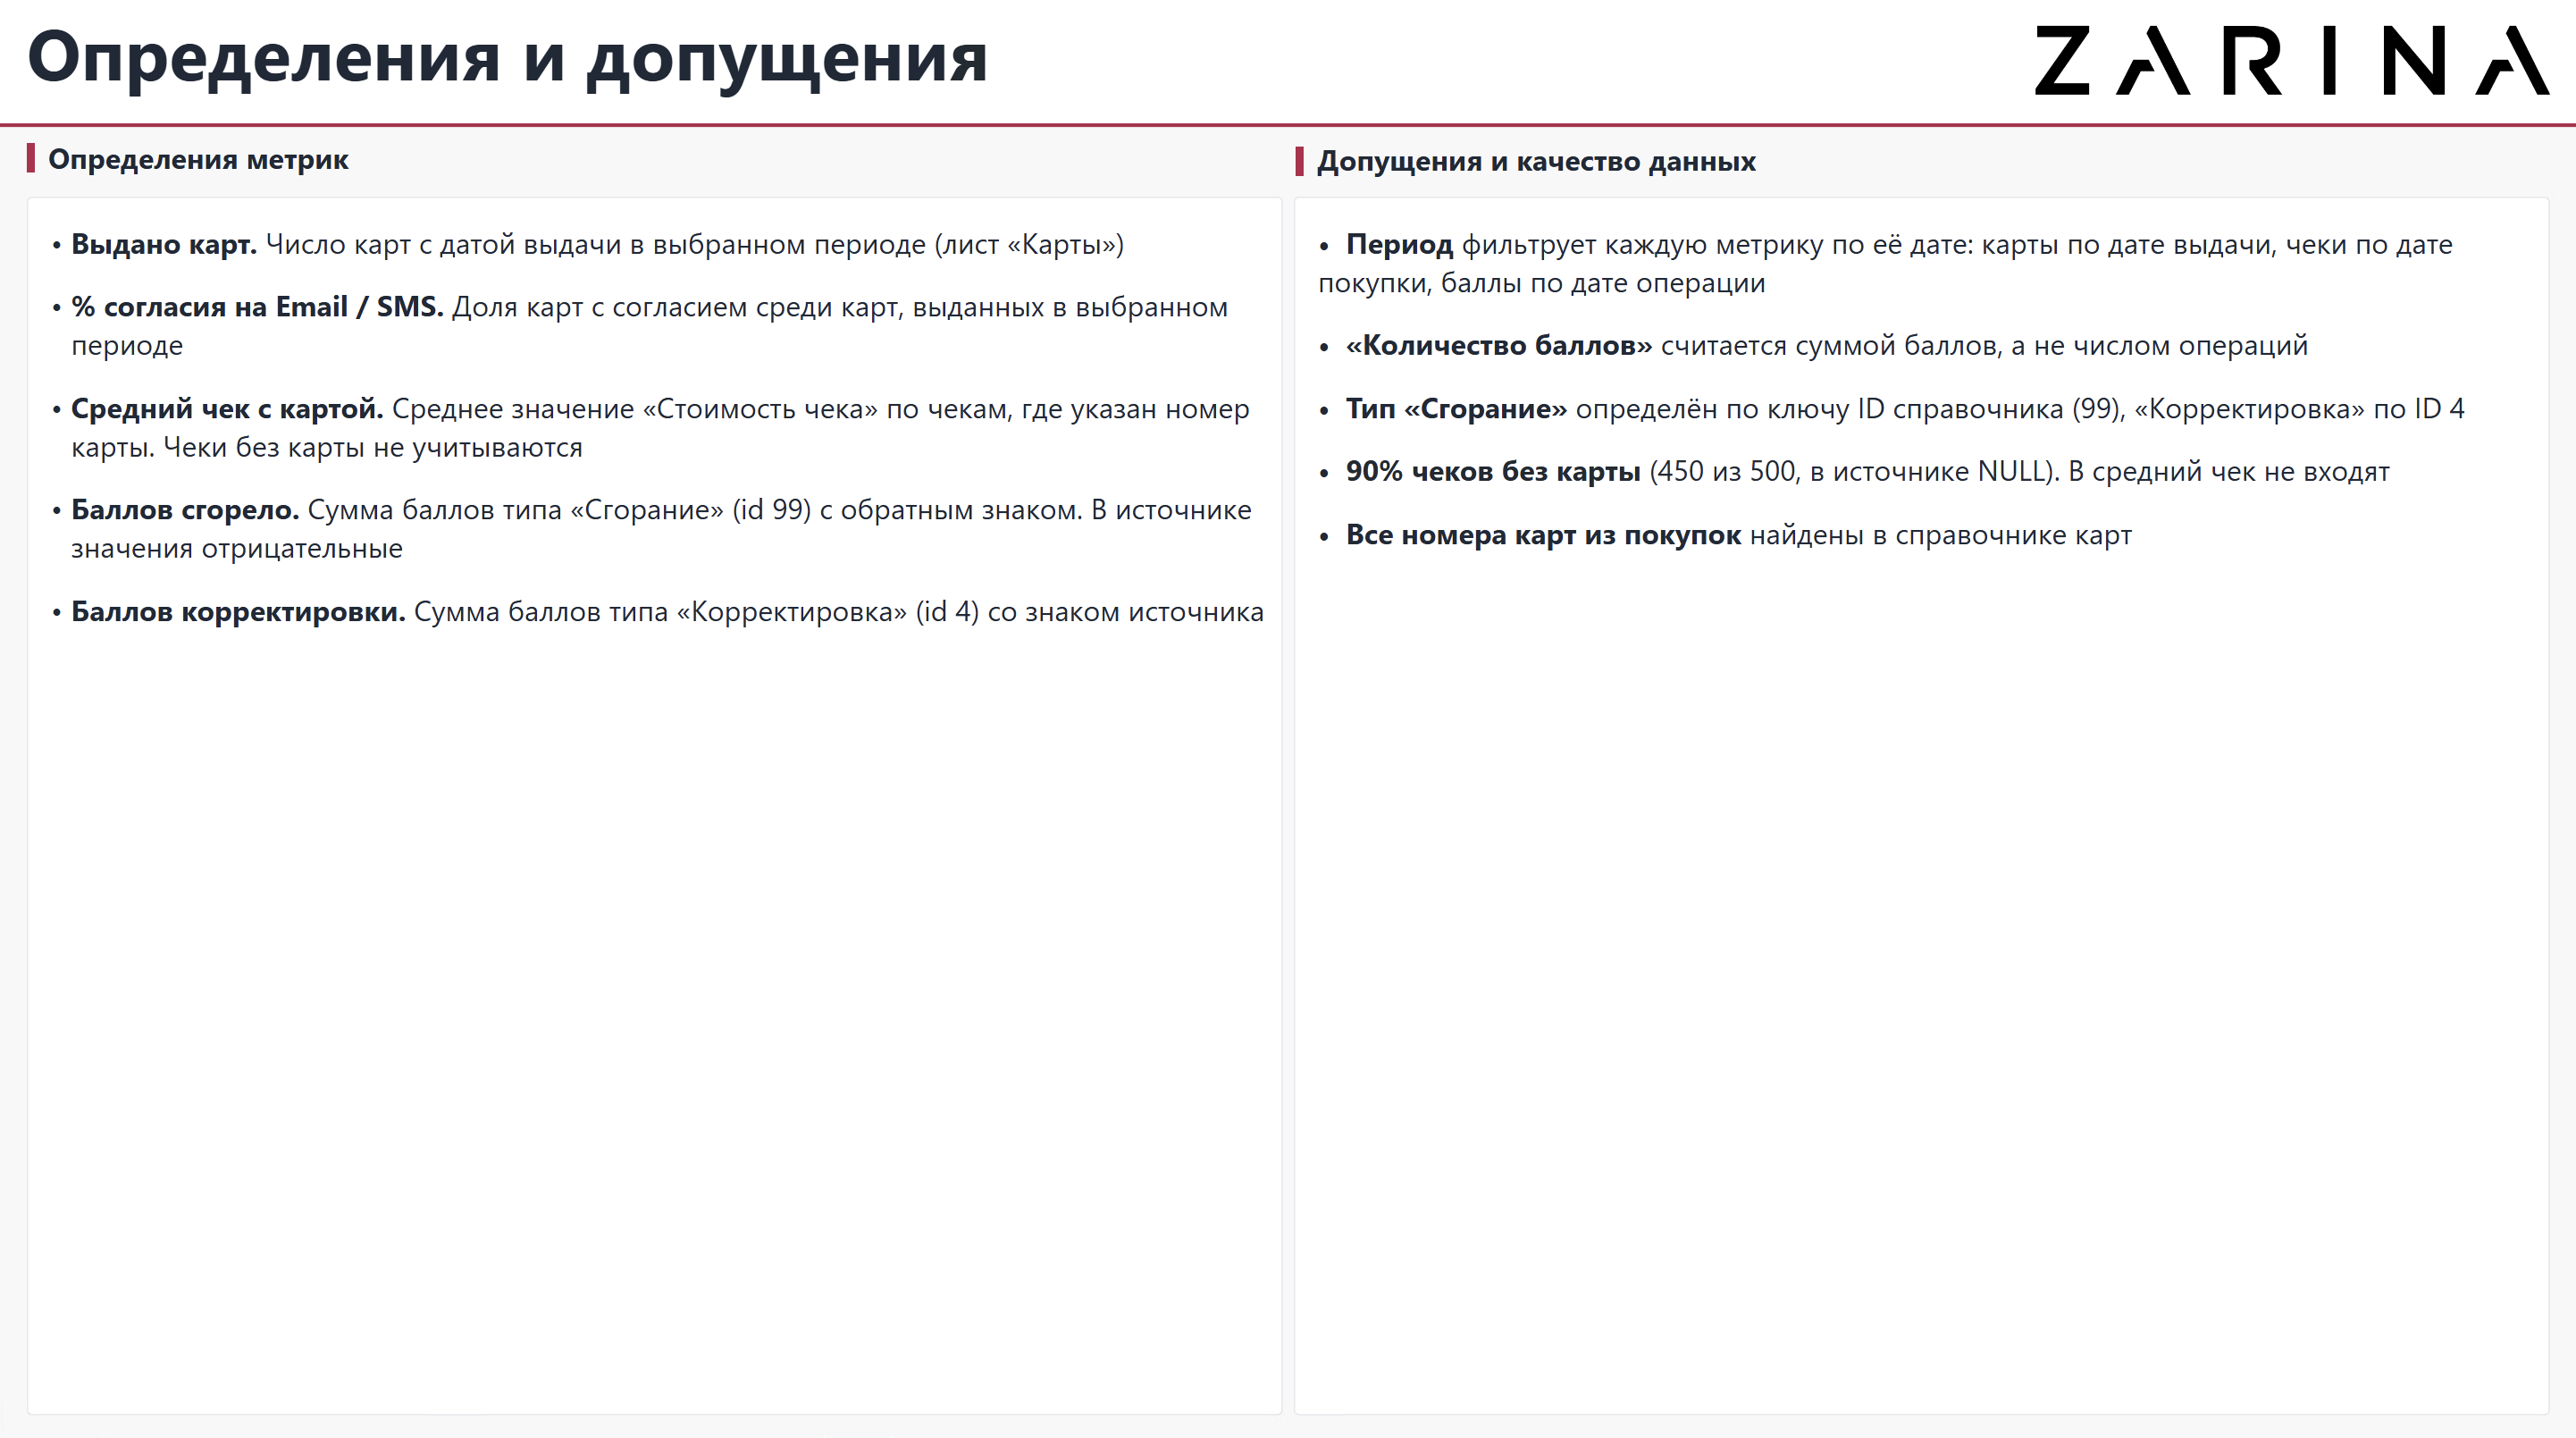

This screenshot's page, from the dashboard's own definition file:
{"tool":"powerbi","page":{"name":"Определения и допущения","canvas":[1920,1080],"ordinal":1},"visuals":[{"type":"textbox","box":[19.3,154.6,936.2,908],"z":0},{"type":"textbox","box":[964.5,154.6,936.2,908],"z":1000},{"type":"textbox","box":[0,0,1920,100],"z":2000},{"type":"image","box":[1517.3,0,383.4,105.5],"z":3000},{"type":"textbox","box":[19.3,10.4,1576.7,81.7],"z":4000},{"type":"shape","box":[0,100,1920,3],"z":5000},{"type":"textbox","box":[36,111,1864,30],"z":6000},{"type":"shape","box":[20,115,6,22],"z":7000},{"type":"textbox","box":[981.5,112.2,645,34.2],"z":8000},{"type":"shape","box":[965.5,116.8,6,22],"z":9000}]}

Visuals, with their boxes in screenshot pixels (x1, y1, x2, y2), scaled from the page's 1920x1080 canvas onto the 2576x1438 screenshot:
textbox: <bbox>26, 206, 1282, 1415</bbox>
textbox: <bbox>1294, 206, 2550, 1415</bbox>
textbox: <bbox>0, 0, 2575, 133</bbox>
image: <bbox>2035, 0, 2550, 140</bbox>
textbox: <bbox>26, 13, 2141, 122</bbox>
shape: <bbox>0, 133, 2575, 137</bbox>
textbox: <bbox>48, 147, 2549, 188</bbox>
shape: <bbox>27, 153, 35, 182</bbox>
textbox: <bbox>1317, 149, 2182, 195</bbox>
shape: <bbox>1296, 156, 1304, 185</bbox>
